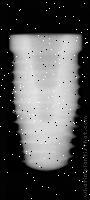Biomet 3i: (8, 34, 83, 171)
